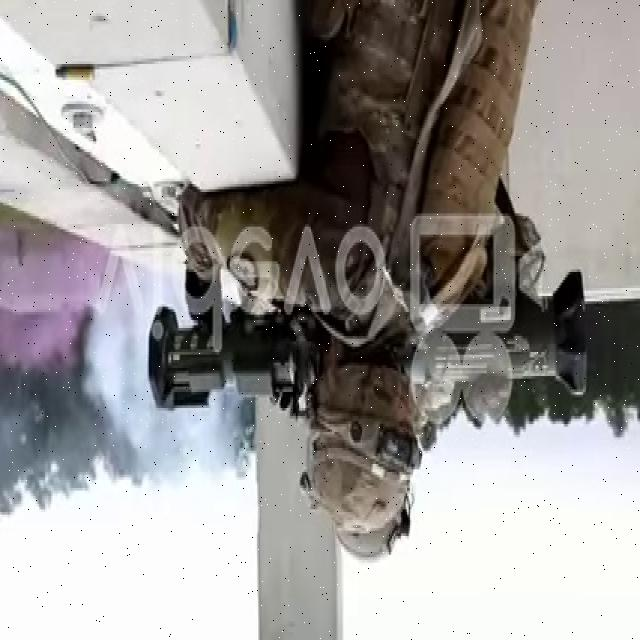bazooka: (144, 265, 591, 422)
